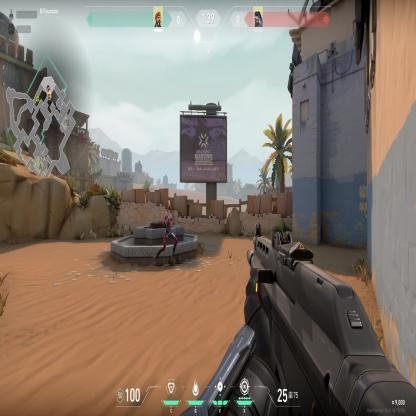enemy: (152, 204, 178, 266)
